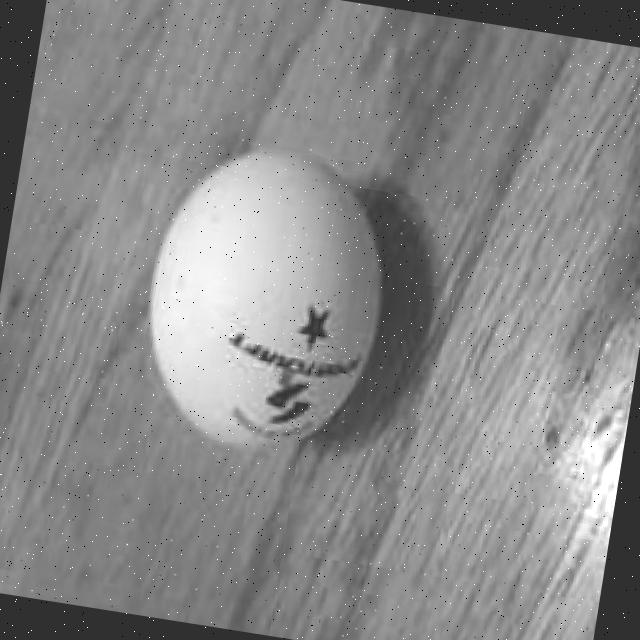ping-pong-ball: (125, 132, 408, 470)
